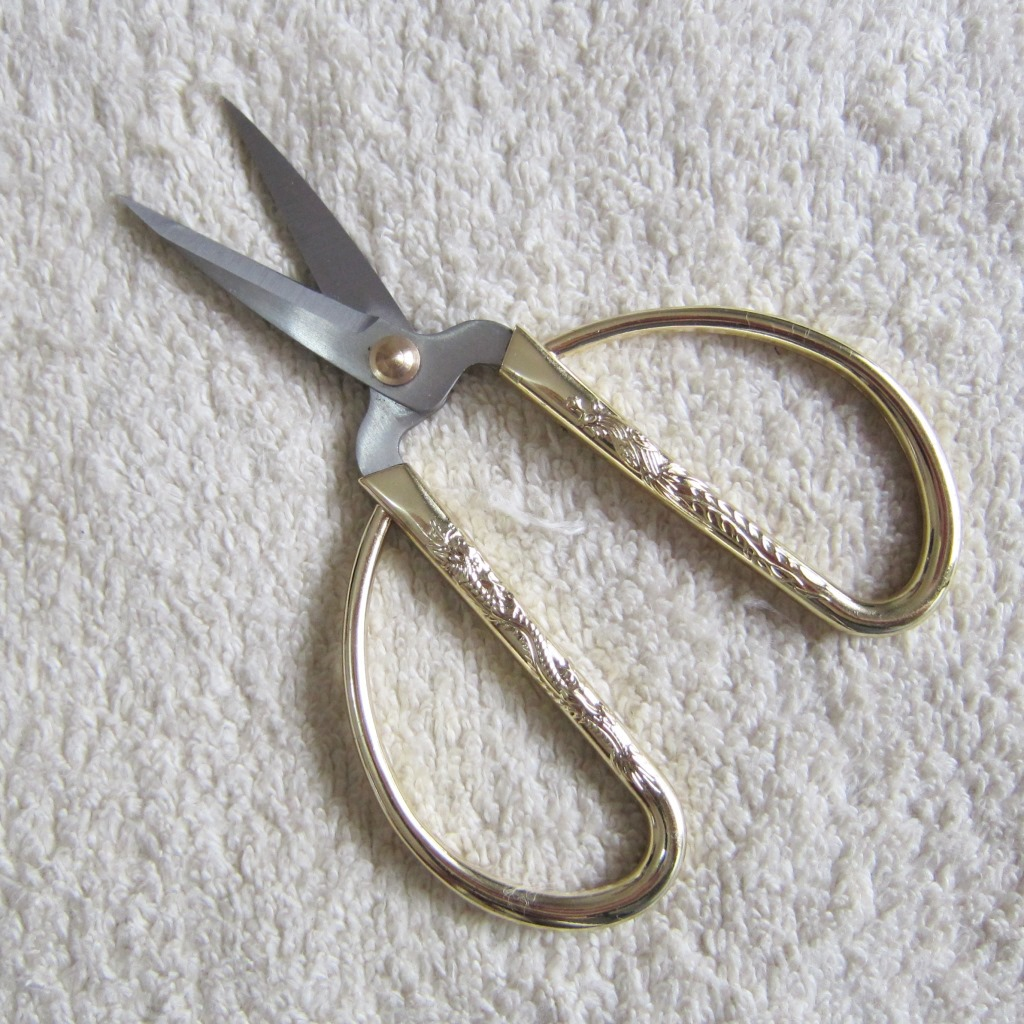scissors: (90, 88, 969, 945)
